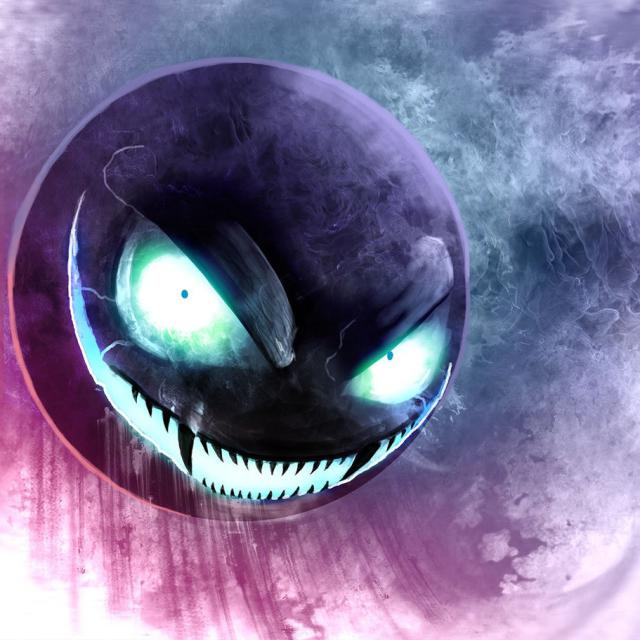Gastly: (0, 14, 560, 586)
